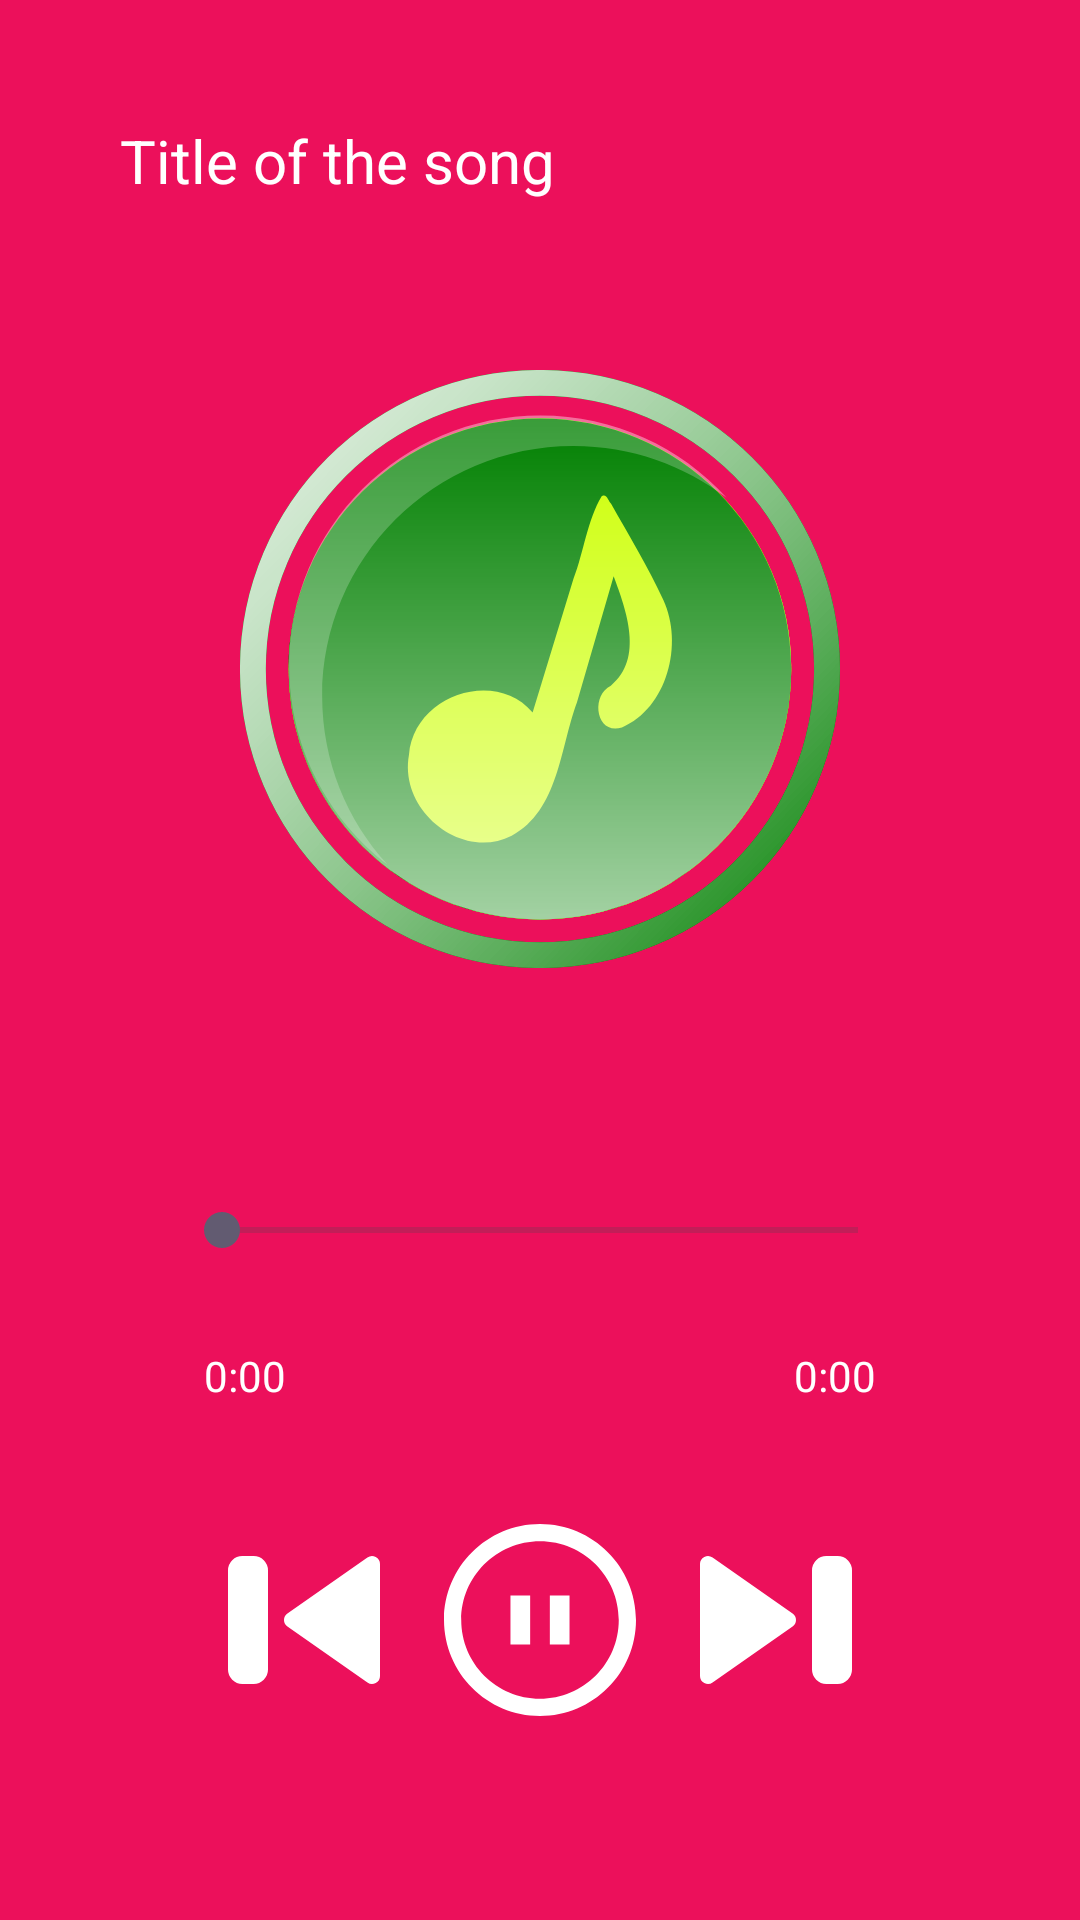

Icon bounding boxes for this 1080 × 1920 phone screenshot, format (x1=x1, y1=y1, x2=x2, y2=y2):
next: (x1=700, y1=1556, x2=852, y2=1684)
pause: (x1=444, y1=1524, x2=636, y2=1716)
prev: (x1=228, y1=1556, x2=380, y2=1684)
